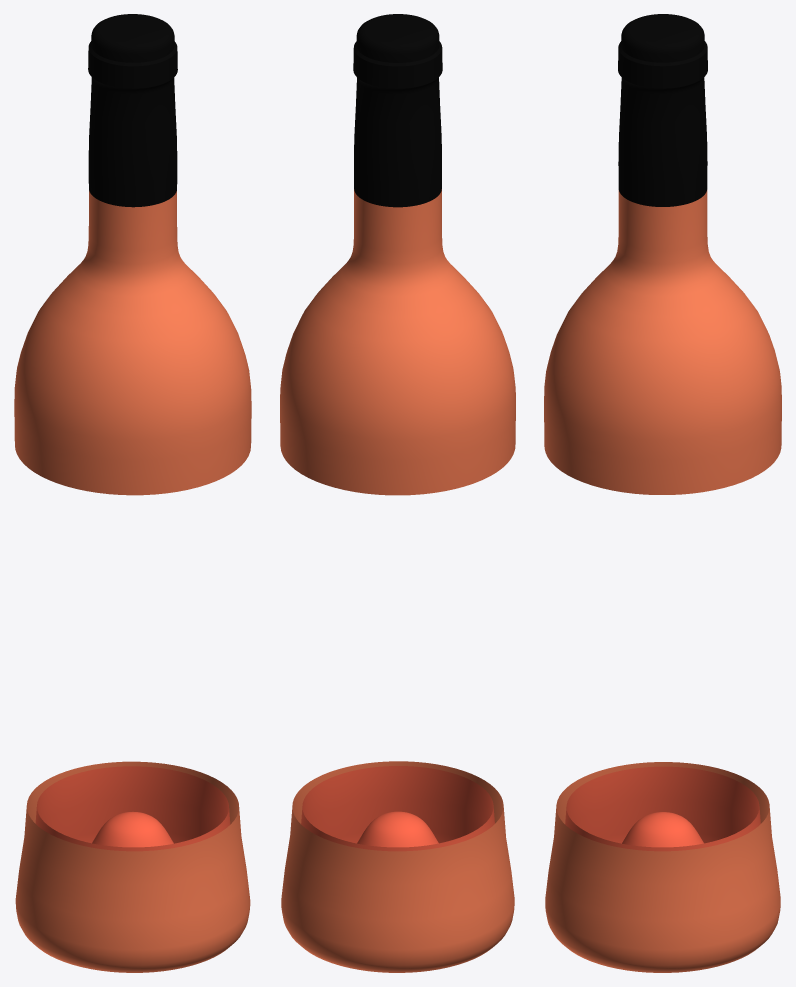
The model's file is viper-bottle-2.glb.
3 views of the same model, side by side, from view 1: azimuth 30°, elevation 25°; view 2: azimuth 150°, elevation 25°; view 3: azimuth 270°, elevation 25° (orthographic).
Parts seen in each view (by area): view 1: Wine_Rose_By_Ott_Domaines_Ott, Wine_Rose_By_Ott_Domaines_Ott.001; view 2: Wine_Rose_By_Ott_Domaines_Ott, Wine_Rose_By_Ott_Domaines_Ott.001; view 3: Wine_Rose_By_Ott_Domaines_Ott, Wine_Rose_By_Ott_Domaines_Ott.001.
Part boxes in pixels (x1,y1,x2,y2): Wine_Rose_By_Ott_Domaines_Ott: (14,190,251,972); Wine_Rose_By_Ott_Domaines_Ott.001: (88,14,177,207); Wine_Rose_By_Ott_Domaines_Ott: (280,189,515,972); Wine_Rose_By_Ott_Domaines_Ott.001: (353,14,442,207); Wine_Rose_By_Ott_Domaines_Ott: (544,190,781,972); Wine_Rose_By_Ott_Domaines_Ott.001: (618,14,707,206).
Bounding box in the file's own units: 0.7111 × 3 × 0.7169.
Materials: 3 (3 with a texture image).
